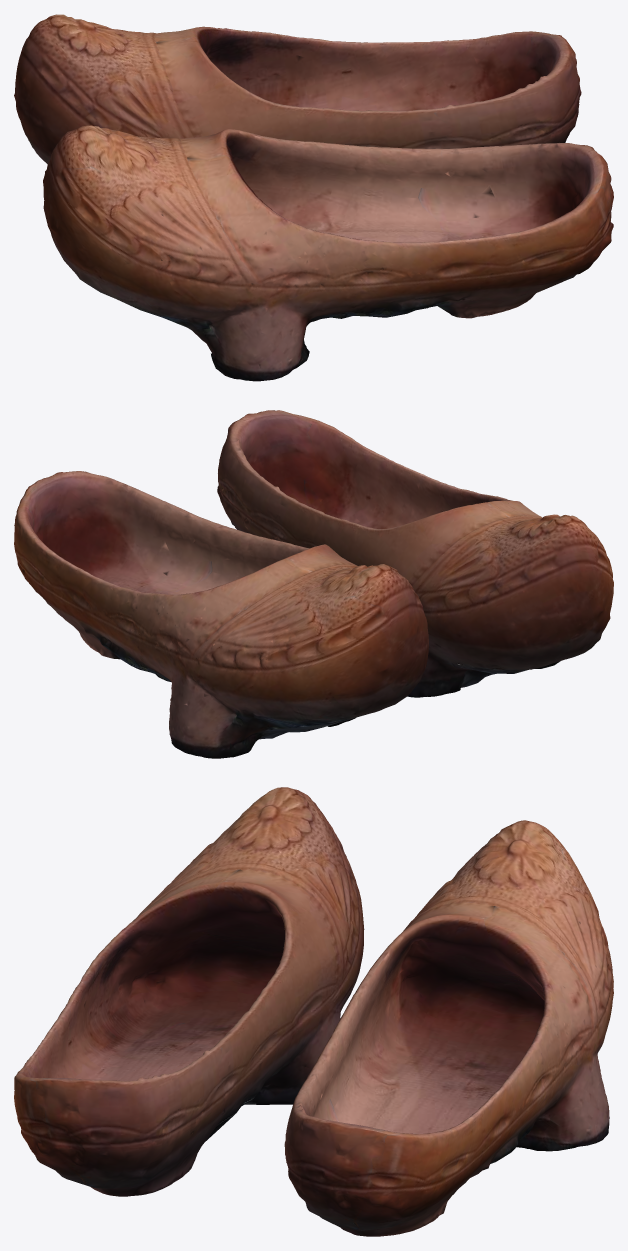
File: GalochaBrownLow.glb
3 renders of one model, top to bottom at view 1: azimuth 30°, elevation 25°; view 2: azimuth 150°, elevation 25°; view 3: azimuth 270°, elevation 25°, orthographic. The views are drawn at different scales.
Visible parts, largest first — view 1: Galocha2; view 2: Galocha2; view 3: Galocha2.
Part boxes in pixels (x1=…): Galocha2: x1=14, y1=14, x2=613, y2=381; Galocha2: x1=14, y1=410, x2=613, y2=758; Galocha2: x1=14, y1=787, x2=613, y2=1236.
Bounding box in the file's own units: 0.2684 × 0.103 × 0.2287.
2 materials, 2 textured.
